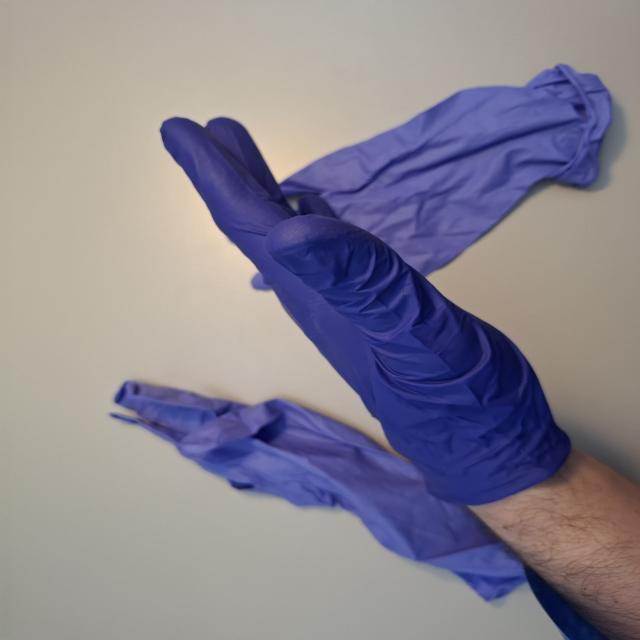glove_on: (154, 113, 581, 514)
